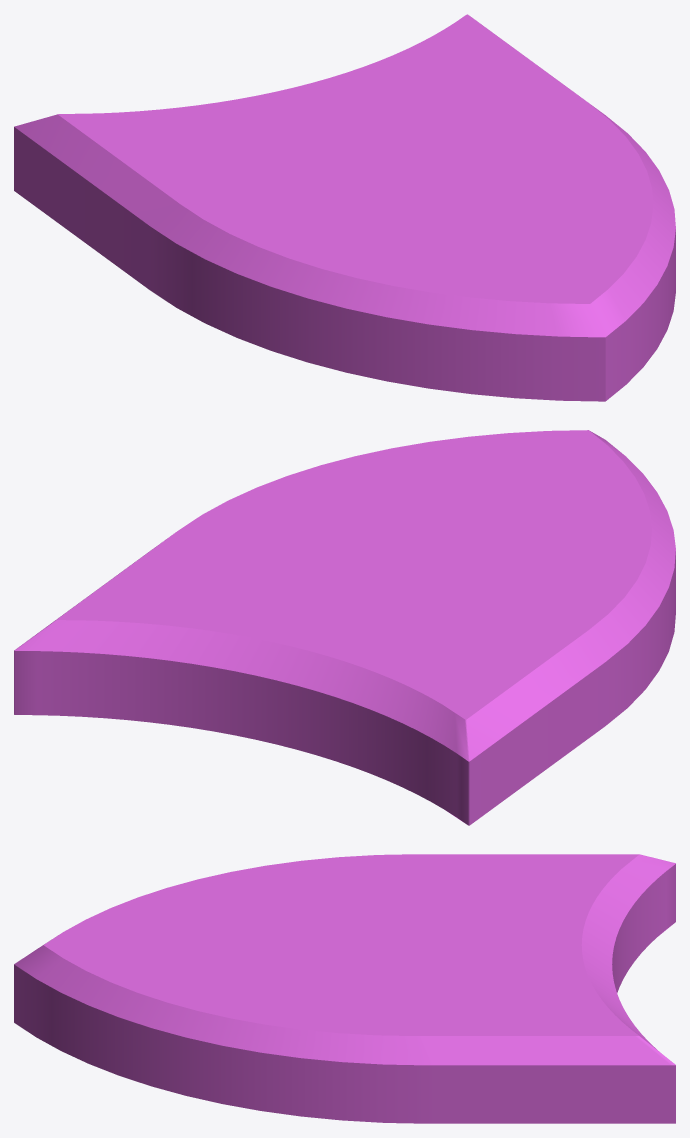
3 views of the same model, one above another, from view 1: azimuth 30°, elevation 25°; view 2: azimuth 150°, elevation 25°; view 3: azimuth 270°, elevation 25° (orthographic). The views are drawn at different scales.
Parts seen in each view (by area): view 1: rect9115; view 2: rect9115; view 3: rect9115.
Boxes of the visible parts, bbox=[...] form: rect9115: bbox=[14, 14, 675, 401]; rect9115: bbox=[14, 430, 675, 825]; rect9115: bbox=[14, 854, 675, 1123].
Bounding box in the file's own units: 2.23 × 0.4 × 3.09.
